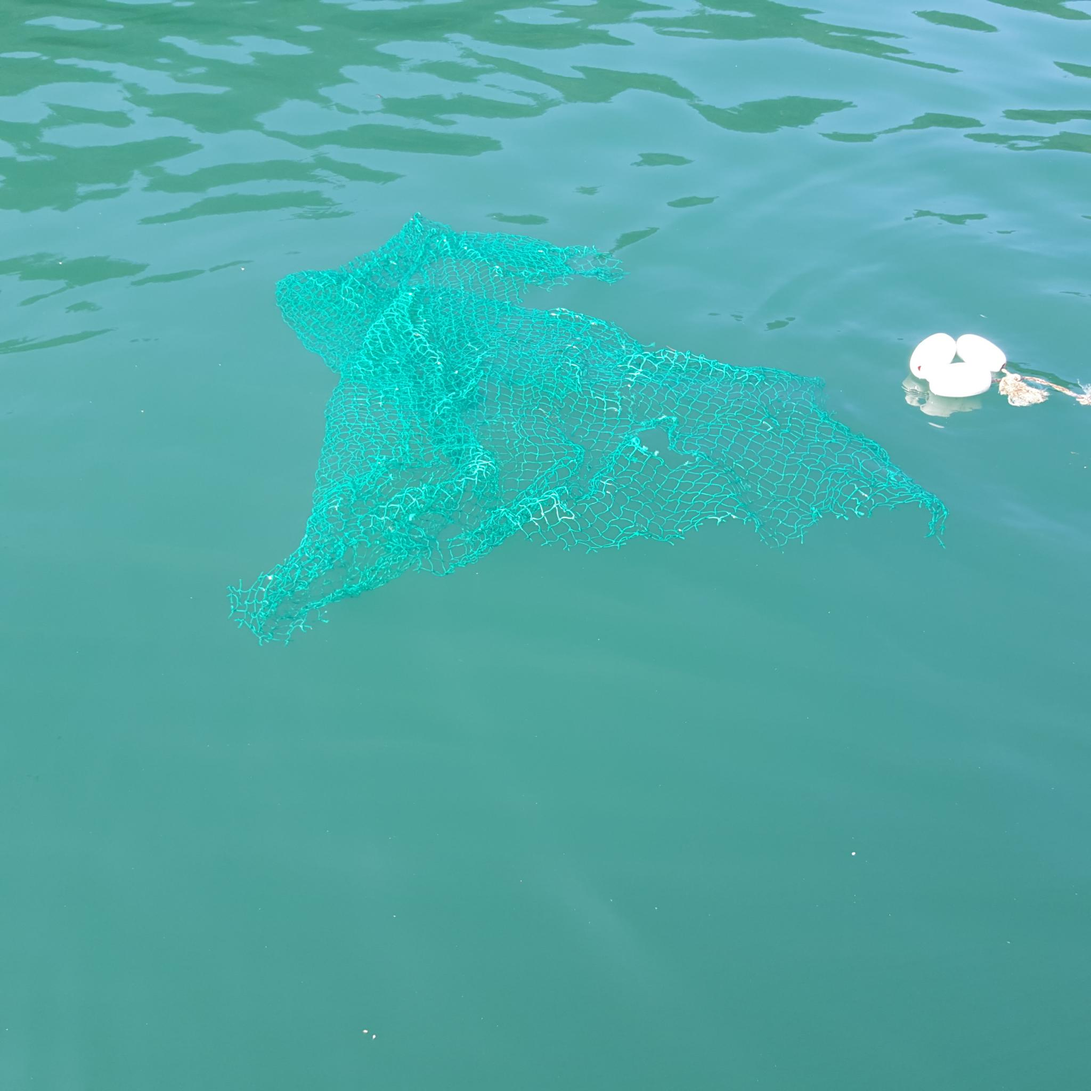sampah_terapung: (226, 211, 949, 645), (992, 369, 1091, 407), (930, 363, 992, 398), (910, 334, 957, 379), (957, 334, 1007, 372)
